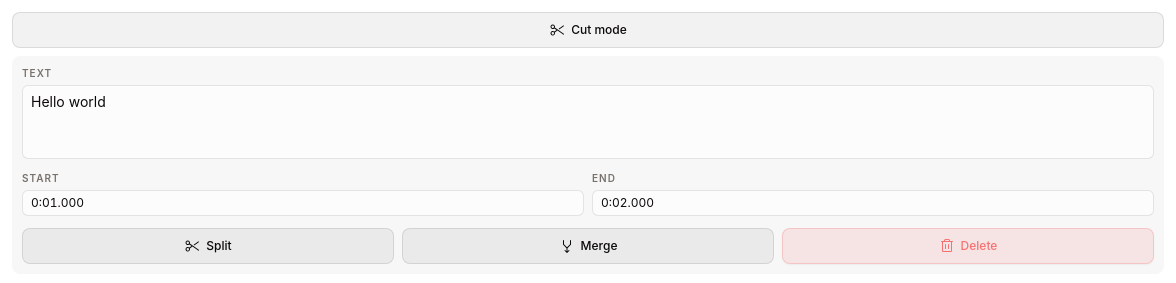
CaptionListPanel cut mode › swaps the caption editor for word chips when cut mode is toggled
Click the button "Cut mode" at (588,30), box [12,12,1164,48]
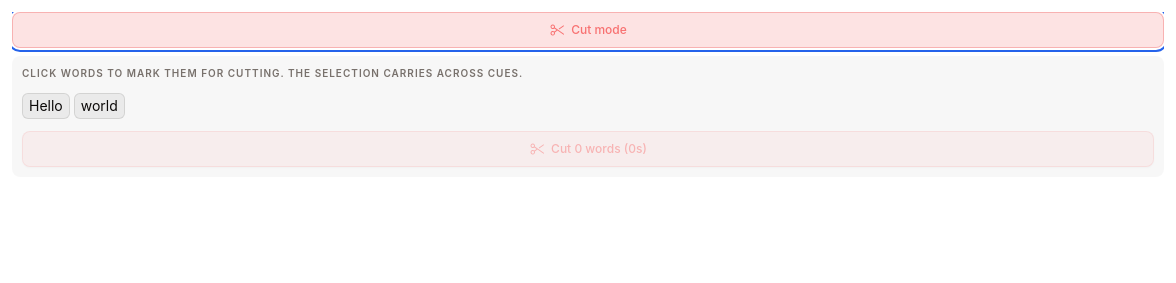
Check: the button "Hello" is shown, box [22,93,70,119]
Check: the button "world" is shown, box [74,93,125,119]
Click the button "Cut mode" at (588,30), box [12,12,1164,48]
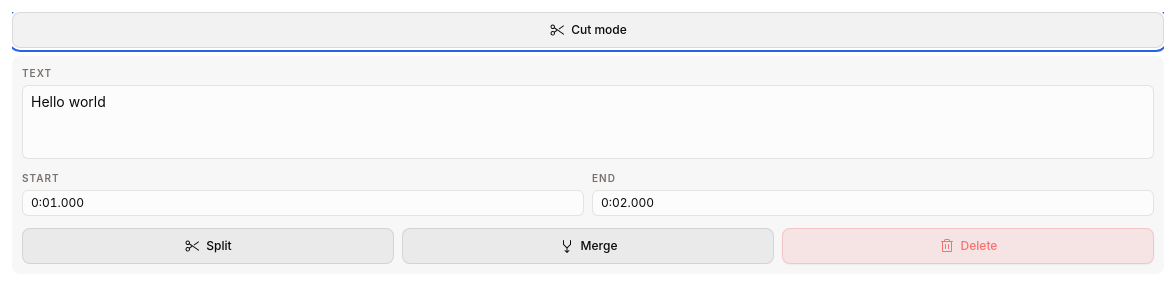
Check: the text box showing "Hello world" is shown, box [22,85,1154,159]
